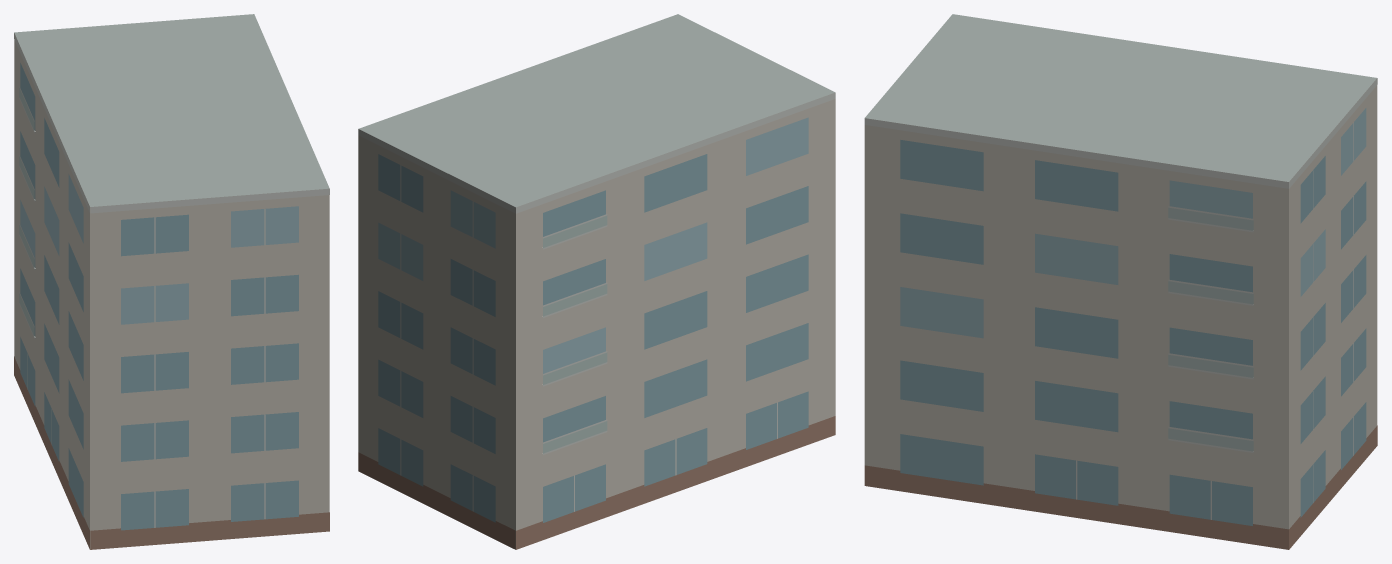
The model's file is survey-upis-32950792.glb.
The picture shows the model from 3 angles, left to right: view 1: azimuth 30°, elevation 25°; view 2: azimuth 150°, elevation 25°; view 3: azimuth 270°, elevation 25°; orthographic projection. The views are drawn at different scales.
Parts seen in each view (by area): view 1: survey-upis-32950792.tmp; view 2: survey-upis-32950792.tmp; view 3: survey-upis-32950792.tmp.
Part boxes in pixels (bbox=[...]): survey-upis-32950792.tmp: bbox=[14, 14, 329, 549]; survey-upis-32950792.tmp: bbox=[358, 14, 835, 549]; survey-upis-32950792.tmp: bbox=[864, 14, 1377, 549].
Bounding box in the file's own units: 12.85 × 13.1 × 16.56.
